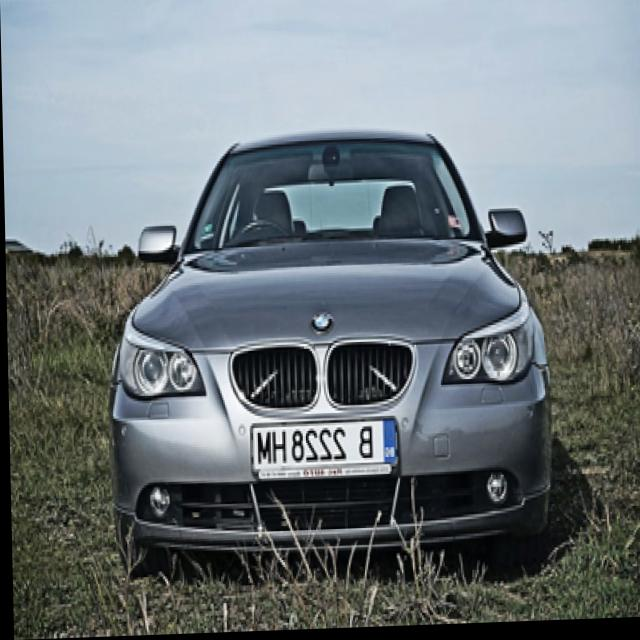licence: (249, 416, 396, 473)
